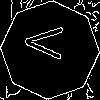V: (25, 25, 72, 61)
